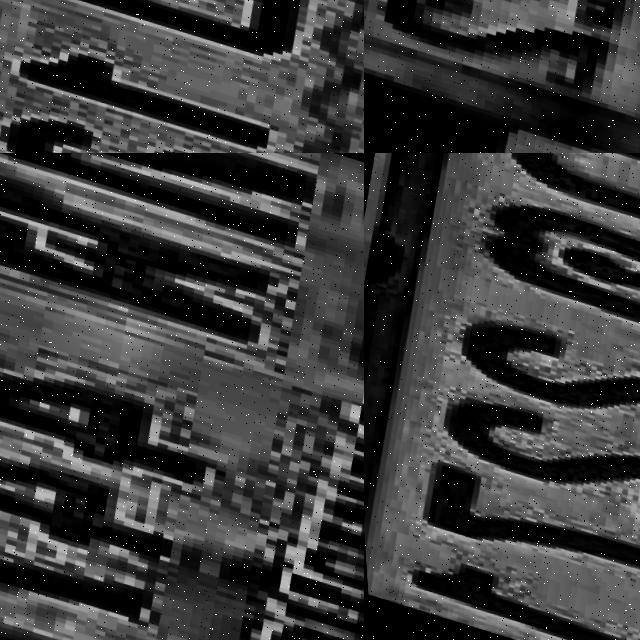license-plate: (0, 153, 364, 640), (364, 153, 640, 640), (0, 0, 364, 153), (364, 0, 640, 153)
